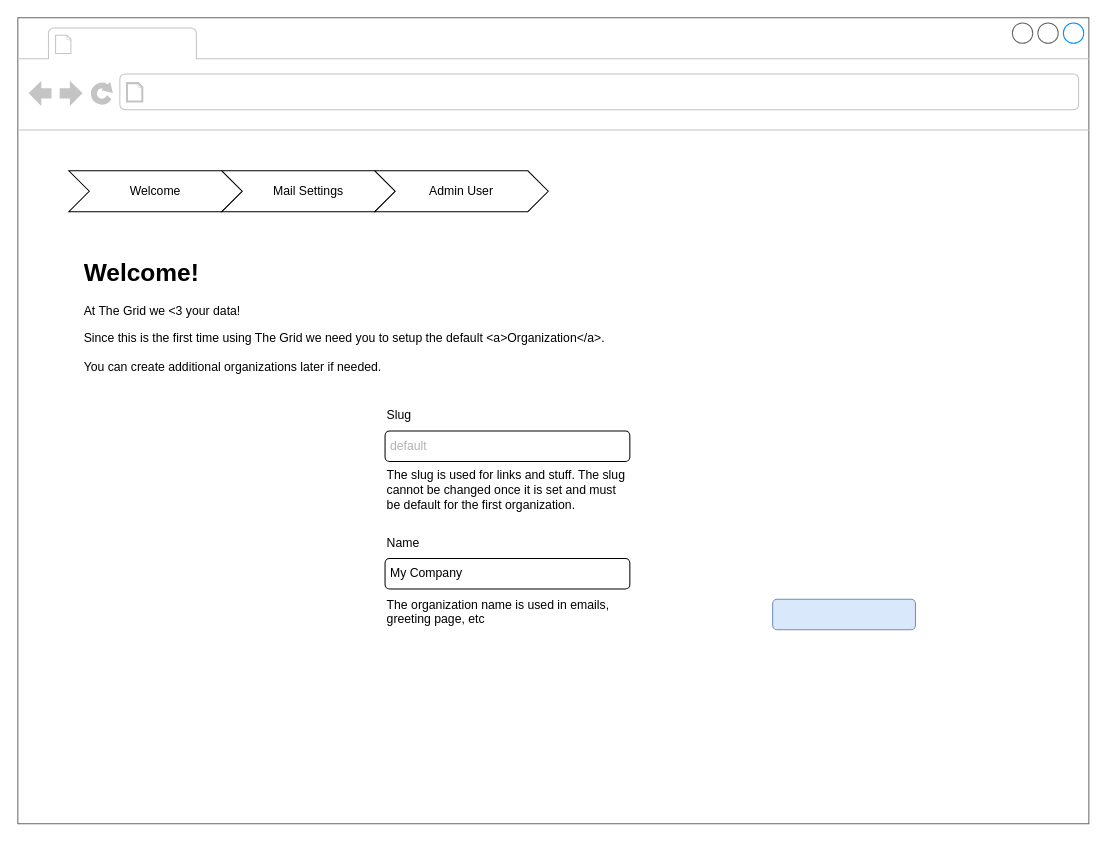
Image size: 1107x842. Some labels were removed from this diagram. The shapes that lost their labels are listed below. From the top down, each one's centre as x and y in pixels, then its label:
[134,43]: The Grid
[277,92]: https://the-grid.mydomain.com
[843,614]: Next
